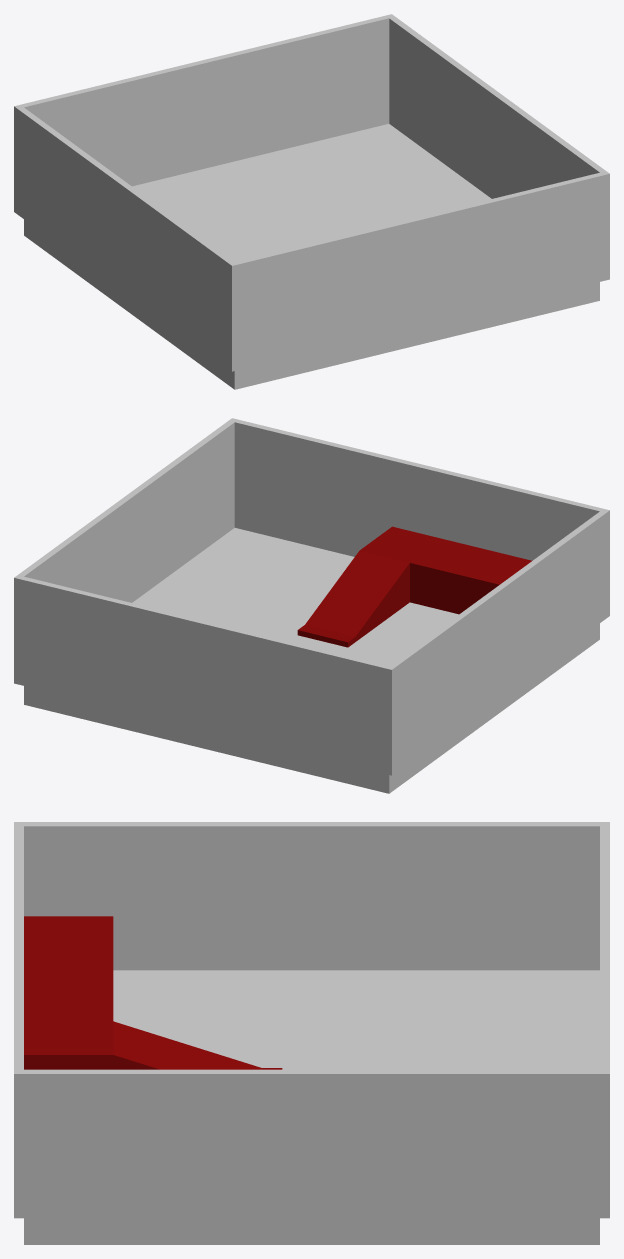
Rendered from Room_no_boxes.dae.
3 views of the same model, one above another, from view 1: azimuth 30°, elevation 25°; view 2: azimuth 150°, elevation 25°; view 3: azimuth 270°, elevation 25° (orthographic). The views are drawn at different scales.
Parts seen in each view (by area): view 1: Cube; view 2: Cube; view 3: Cube.
Boxes of the visible parts, <box> form: Cube: <box>14,14,609,389</box>; Cube: <box>14,418,609,793</box>; Cube: <box>14,822,609,1244</box>.
Bounding box in the file's own units: 150 × 150 × 48.61.
